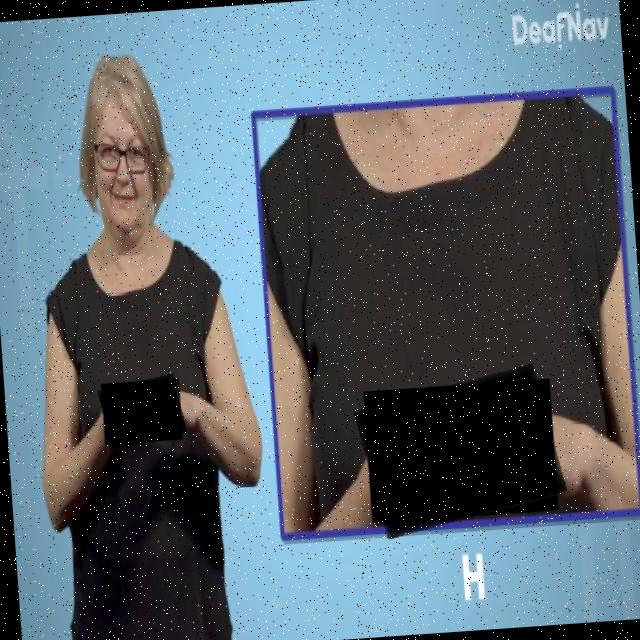H: (358, 371, 565, 534), (100, 376, 187, 448)
